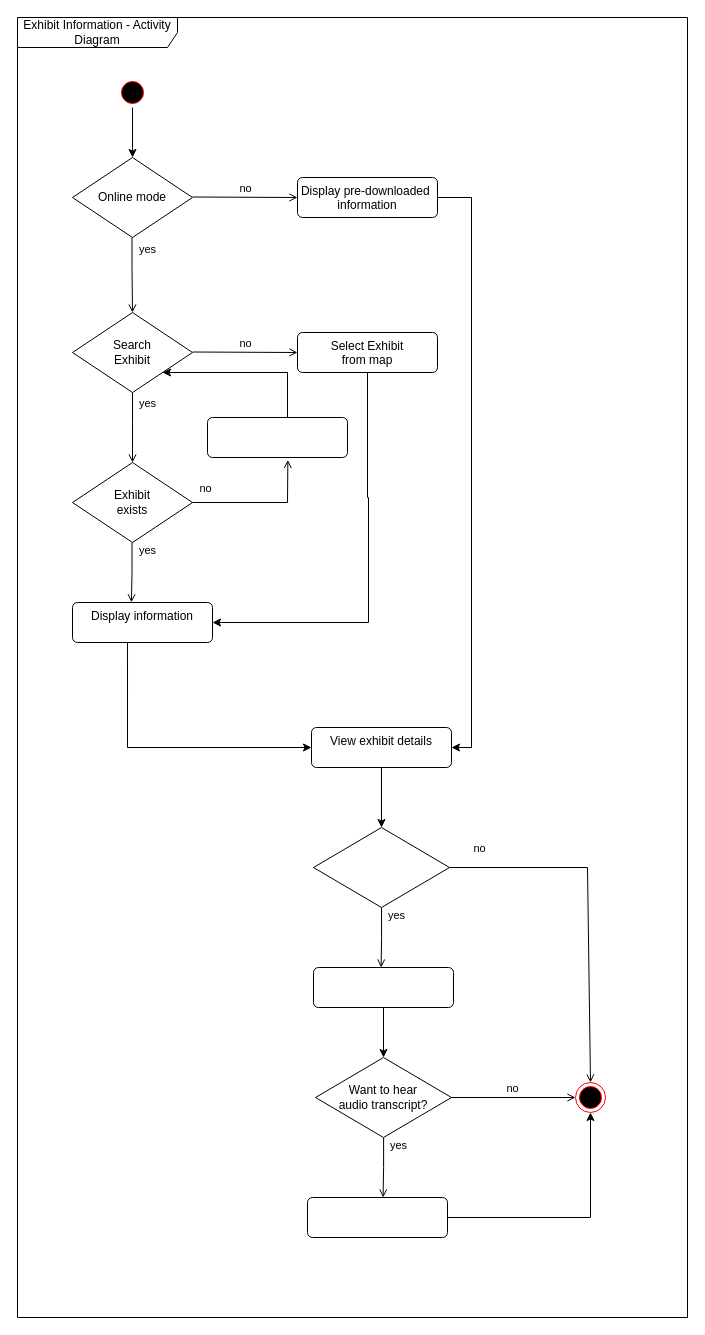
This 705x1335 diagram has some shape labels left out. Here are the shapes that lost their labels. From the top down, the centre of each, then its label:
pixel 277 437: Display "No results found"
pixel 381 867: Select "More Details"
pixel 383 987: Display additional information
pixel 377 1217: Play audio transcript
